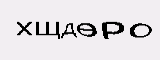Д: (60, 22, 77, 40)
О: (128, 22, 154, 39)
Р: (102, 21, 126, 41)
Х: (15, 18, 35, 37)
Щ: (35, 20, 62, 40)
Ө: (77, 21, 98, 39)
